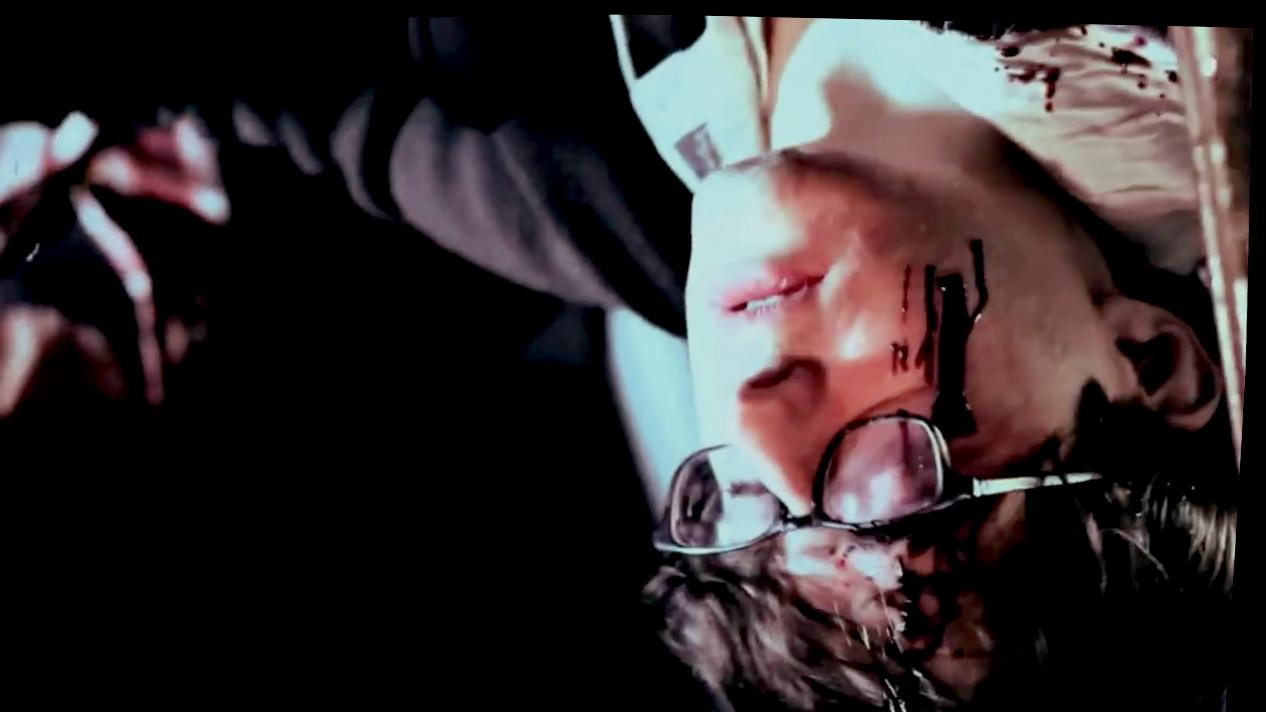Fire: (889, 500, 1012, 695), (919, 235, 995, 434), (1007, 59, 1065, 105), (1103, 40, 1155, 68), (897, 338, 917, 369), (907, 260, 918, 314), (1169, 63, 1183, 78), (1139, 68, 1151, 83), (1007, 42, 1024, 50)
